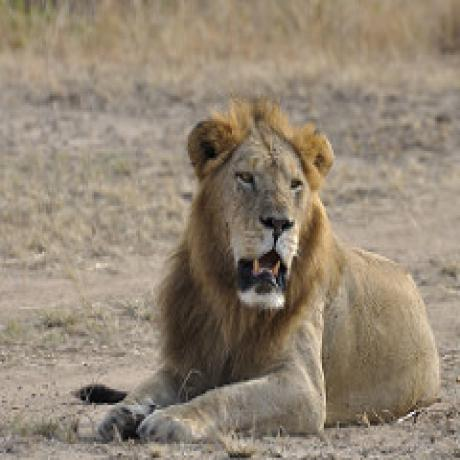Lion: (107, 99, 442, 452)
